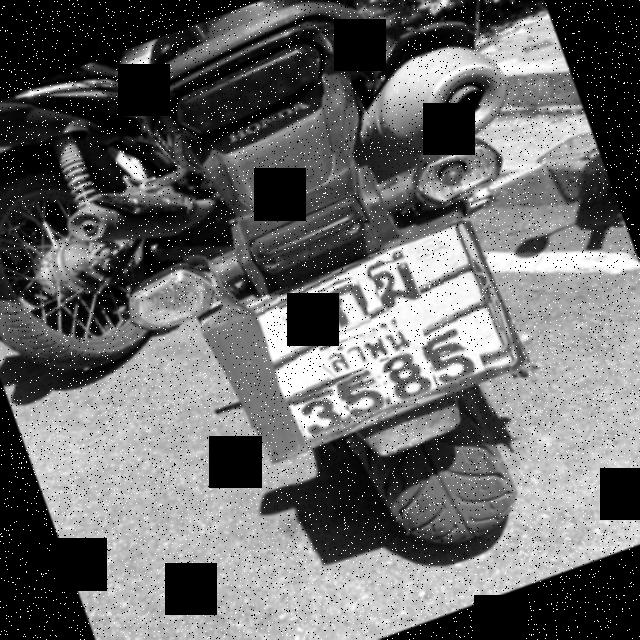letters: (318, 277, 372, 337), (292, 386, 346, 442), (370, 254, 422, 312), (380, 358, 439, 408), (429, 342, 485, 388), (278, 296, 322, 348), (342, 376, 390, 420)
license-plate: (244, 221, 516, 450)
province: (320, 312, 428, 380)
